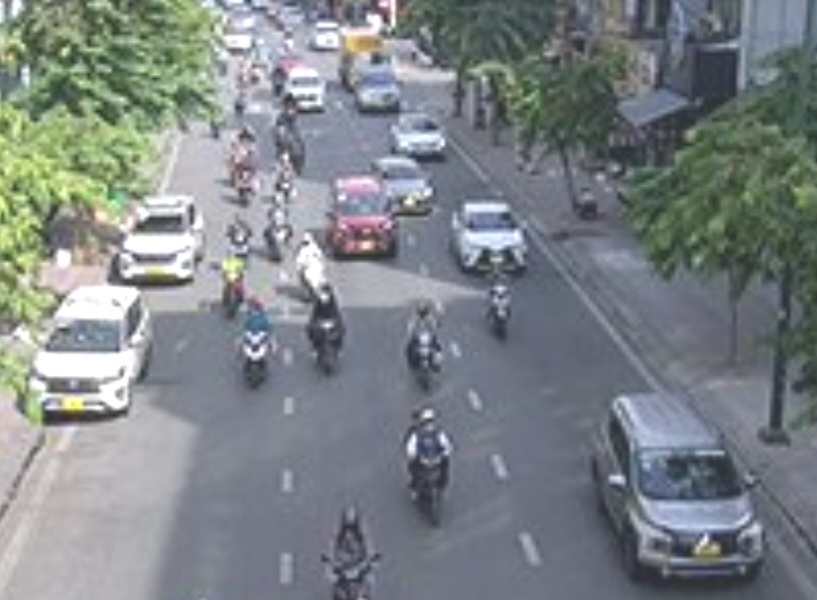car: (583, 396, 768, 575), (28, 285, 148, 423), (117, 192, 205, 287), (323, 177, 400, 260), (447, 202, 529, 275), (374, 155, 435, 214), (390, 115, 450, 159), (357, 69, 403, 114), (284, 71, 329, 114)
